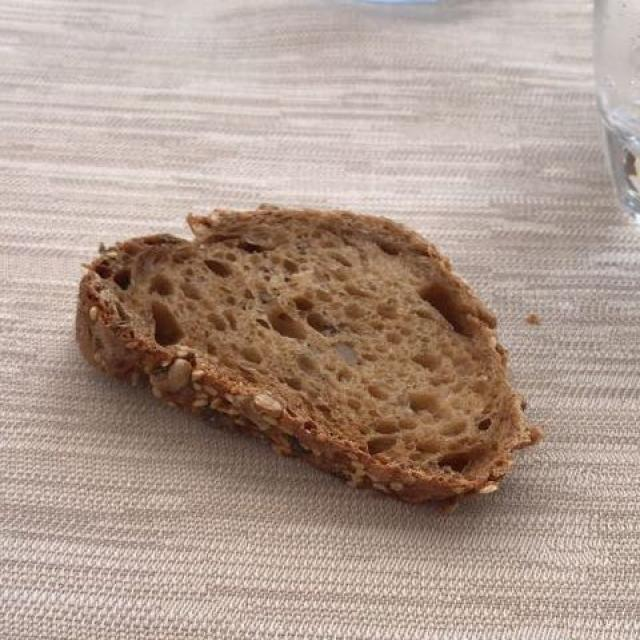bread-wholemeal: (77, 210, 531, 499)
